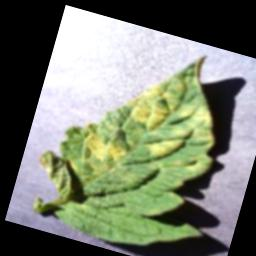Leaf_Mold: (106, 38, 240, 195), (67, 119, 134, 185)
